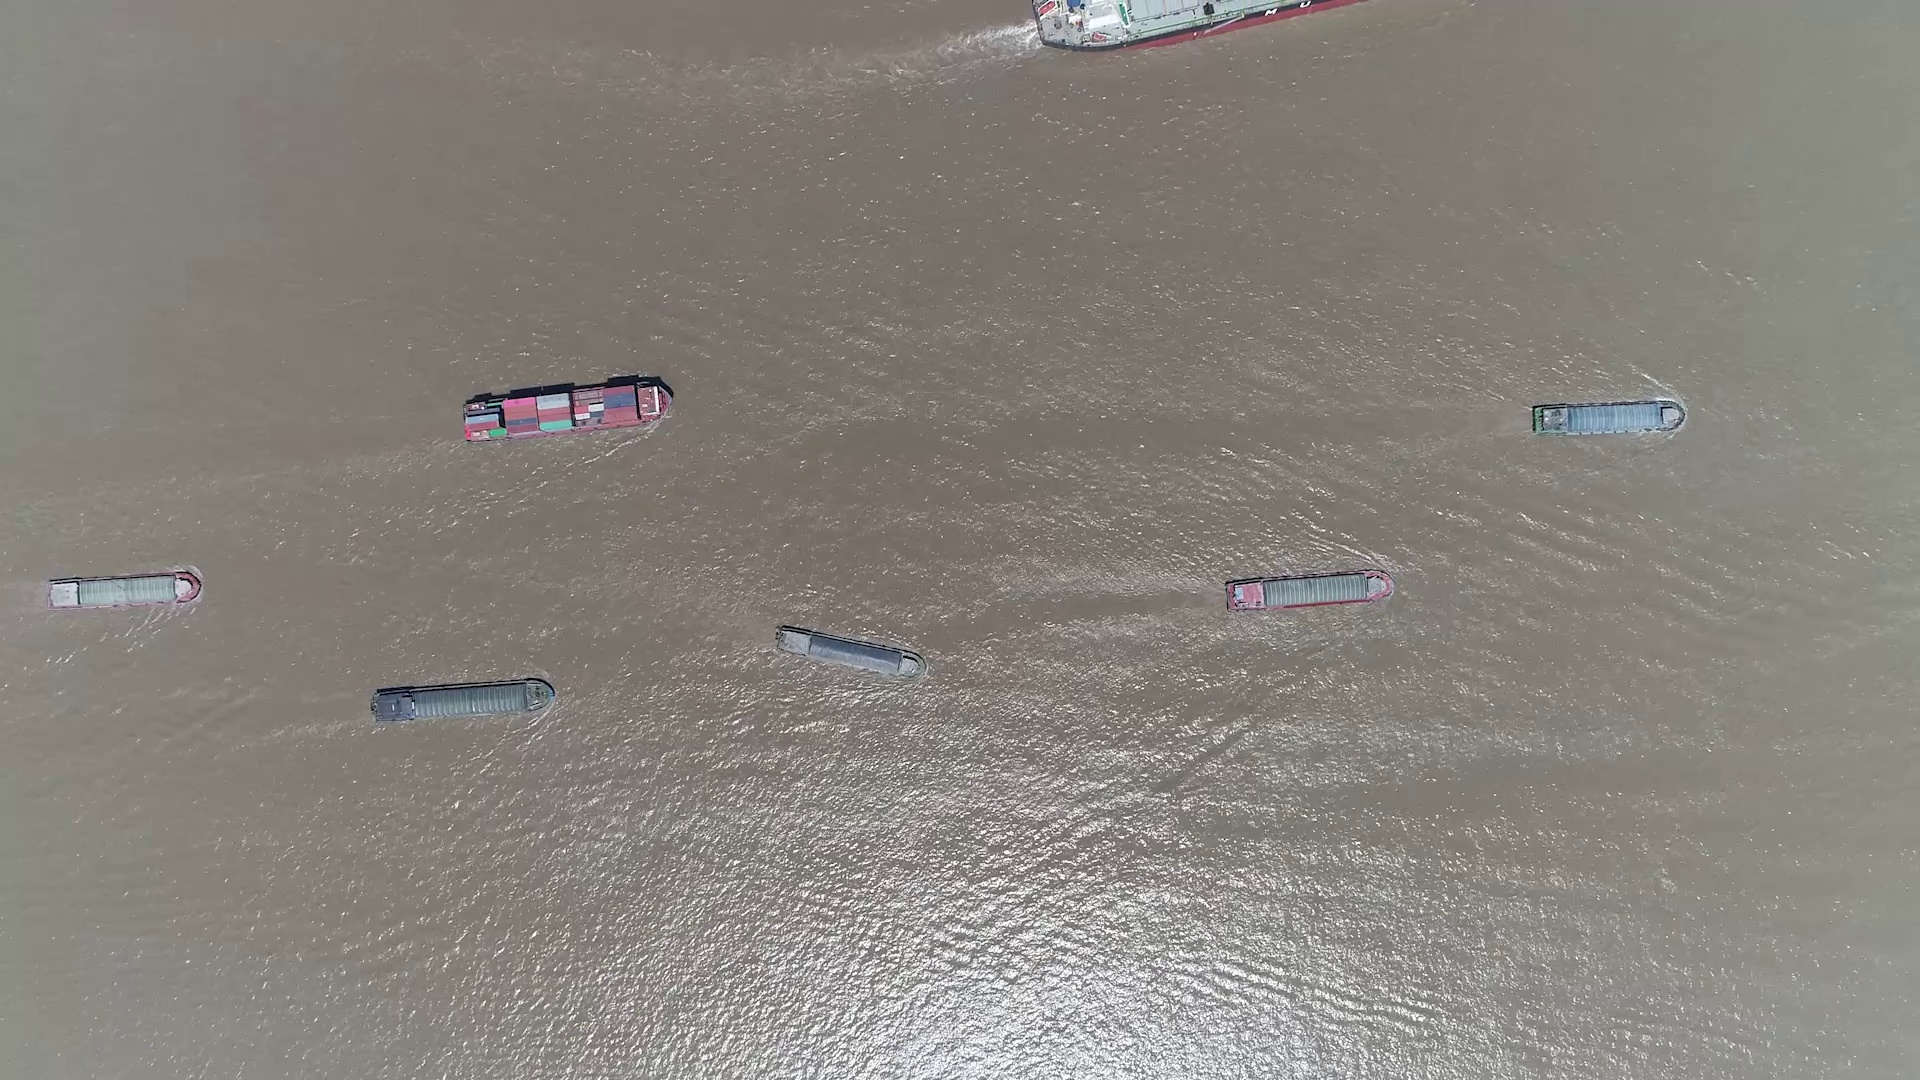ship: (1033, 3, 1361, 50), (462, 378, 673, 440), (372, 678, 556, 723), (775, 626, 923, 680), (1226, 568, 1396, 612), (44, 572, 200, 611), (1531, 401, 1684, 435)
